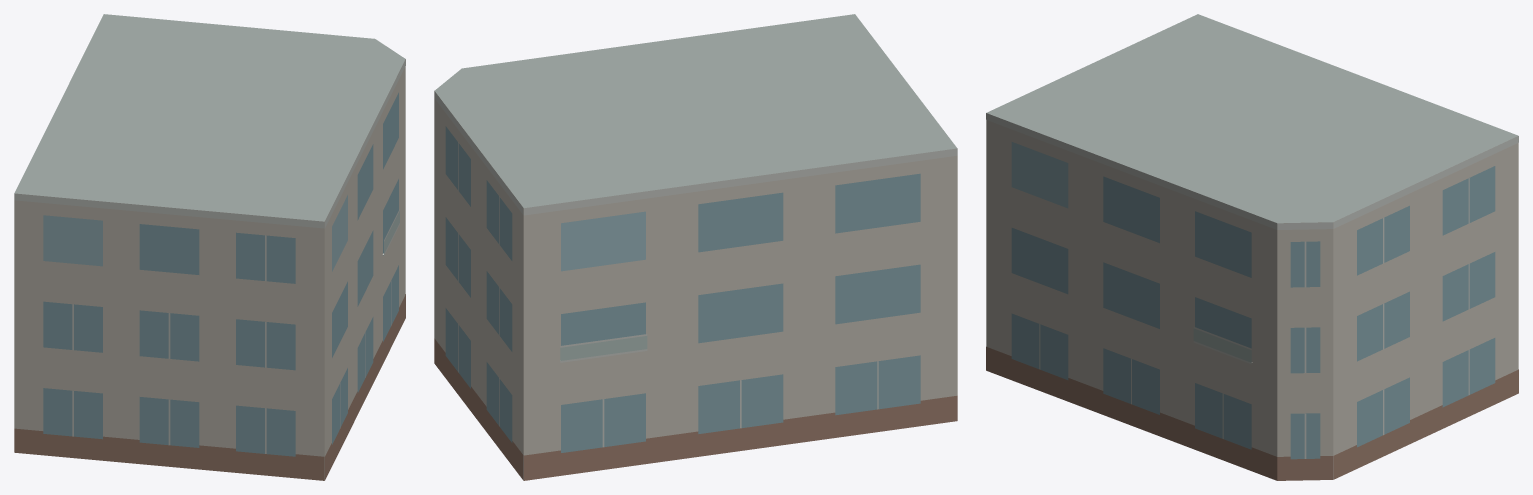
Rendered from survey-upis-32940700.glb.
3 renders of one model, left to right at view 1: azimuth 30°, elevation 25°; view 2: azimuth 150°, elevation 25°; view 3: azimuth 270°, elevation 25°, orthographic. The views are drawn at different scales.
Visible parts, largest first — view 1: survey-upis-32940700.tmp; view 2: survey-upis-32940700.tmp; view 3: survey-upis-32940700.tmp.
Part boxes in pixels (left/top/right/bottom): survey-upis-32940700.tmp: left=14, top=14, right=405, bottom=480; survey-upis-32940700.tmp: left=434, top=14, right=957, bottom=480; survey-upis-32940700.tmp: left=986, top=14, right=1518, bottom=480.
Size of the model in its own units: 15.95 by 9.15 by 17.15.
